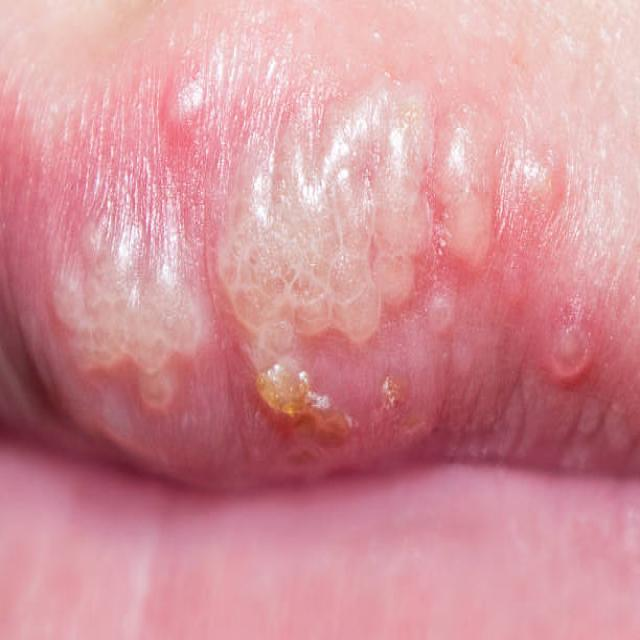processing_area: (1, 2, 639, 638)
ulcer-detection: (11, 46, 633, 481)
